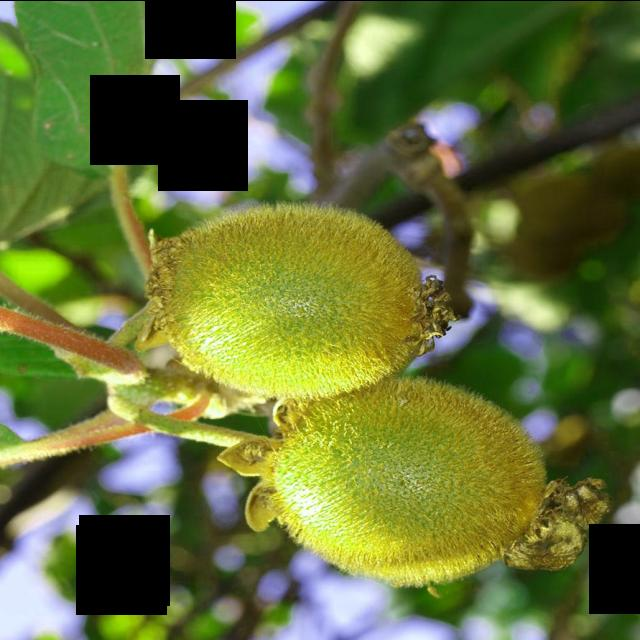kiwi: (262, 373, 563, 598), (144, 187, 438, 407)
